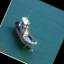fishing boat: (5, 12, 46, 55)
